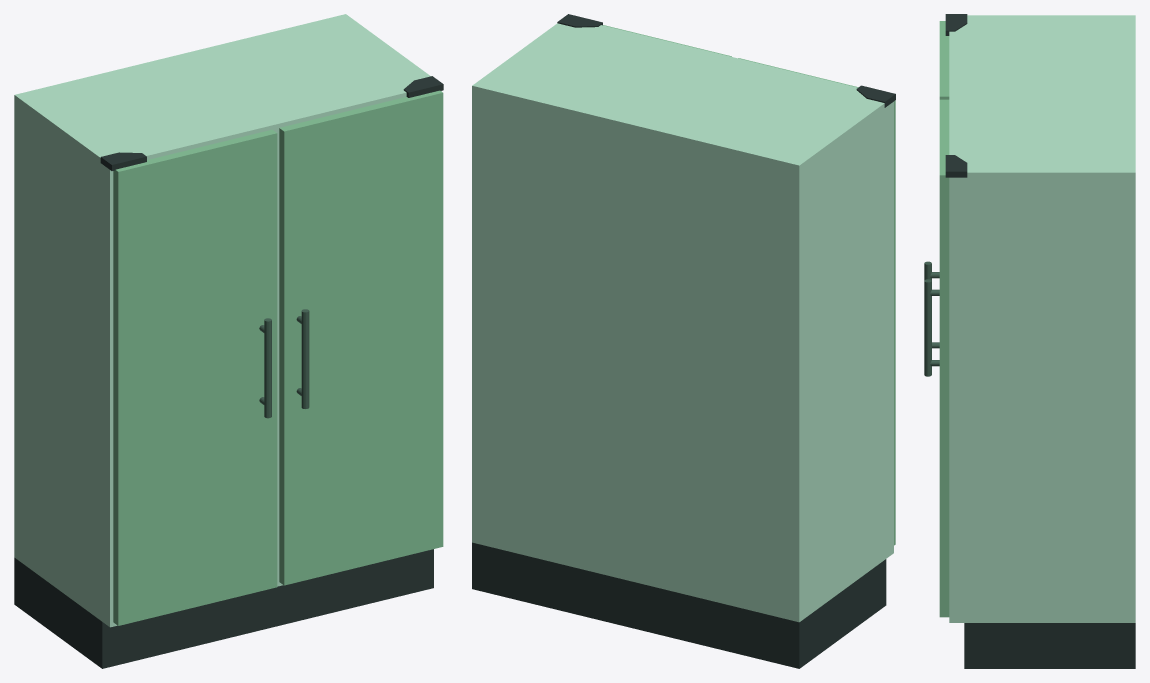
File: Prop_Refrigerator_02.fbx
The picture shows the model from 3 angles, left to right: view 1: azimuth 30°, elevation 25°; view 2: azimuth 150°, elevation 25°; view 3: azimuth 270°, elevation 25°; orthographic projection. The views are drawn at different scales.
Parts seen in each view (by area): view 1: Prop_Refrigerator_02; view 2: Prop_Refrigerator_02; view 3: Prop_Refrigerator_02.
Part boxes in pixels (x1,y1,x2,y2): Prop_Refrigerator_02: (14, 14, 443, 668); Prop_Refrigerator_02: (472, 14, 895, 668); Prop_Refrigerator_02: (924, 14, 1135, 668).
Size of the model in its own units: 120 by 177 by 68.03.
